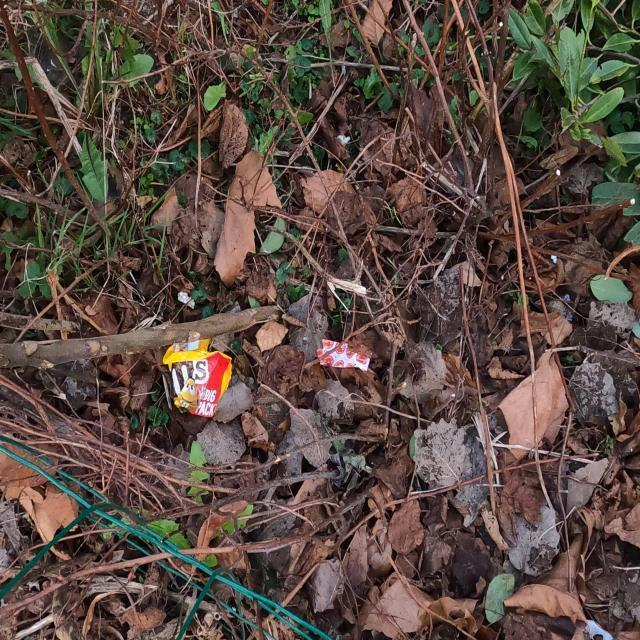Plastic: (162, 336, 234, 419), (316, 336, 372, 372)
